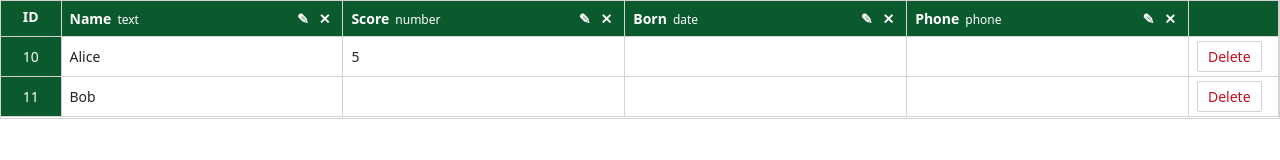
Cell inline editing › click turns the cell into an input with the current value
The width and height of the screenshot is (1280, 160).
What coordinates should you click on to do the following:
click the text "Alice"
I would click on:
 (85, 56)
Its box is [70,47,100,66].
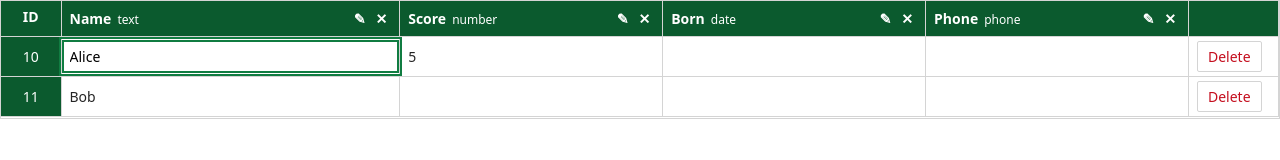
Now the field showing "Alice" is shown, box [62,40,399,73]
